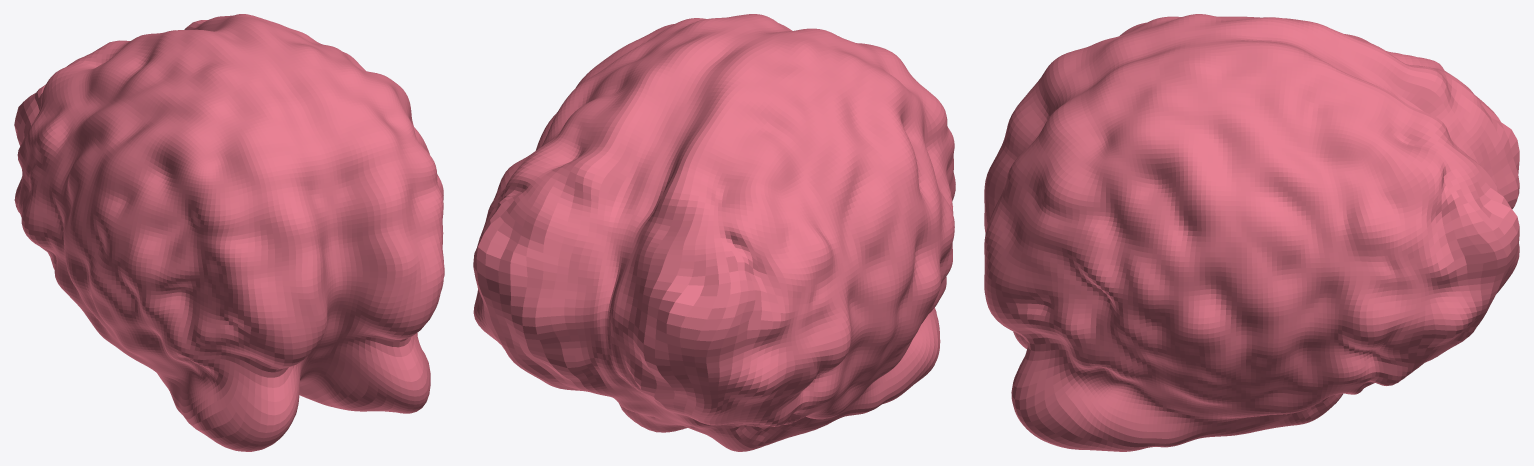
File: Brain.gltf
3 renders of one model, left to right at view 1: azimuth 30°, elevation 25°; view 2: azimuth 150°, elevation 25°; view 3: azimuth 270°, elevation 25°, orthographic. The views are drawn at different scales.
Visible parts, largest first — view 1: Quad Sphere; view 2: Quad Sphere; view 3: Quad Sphere.
Boxes of the visible parts, <box> form: Quad Sphere: <box>14,14,444,451</box>; Quad Sphere: <box>473,14,955,451</box>; Quad Sphere: <box>984,14,1519,451</box>.
Size of the model in its own units: 2.77 by 2.74 by 3.49.
